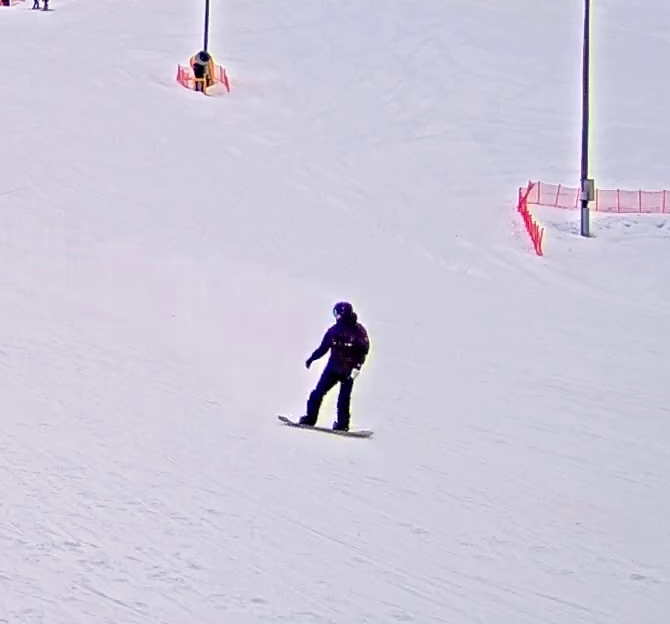snowboarder: (279, 299, 380, 441)
